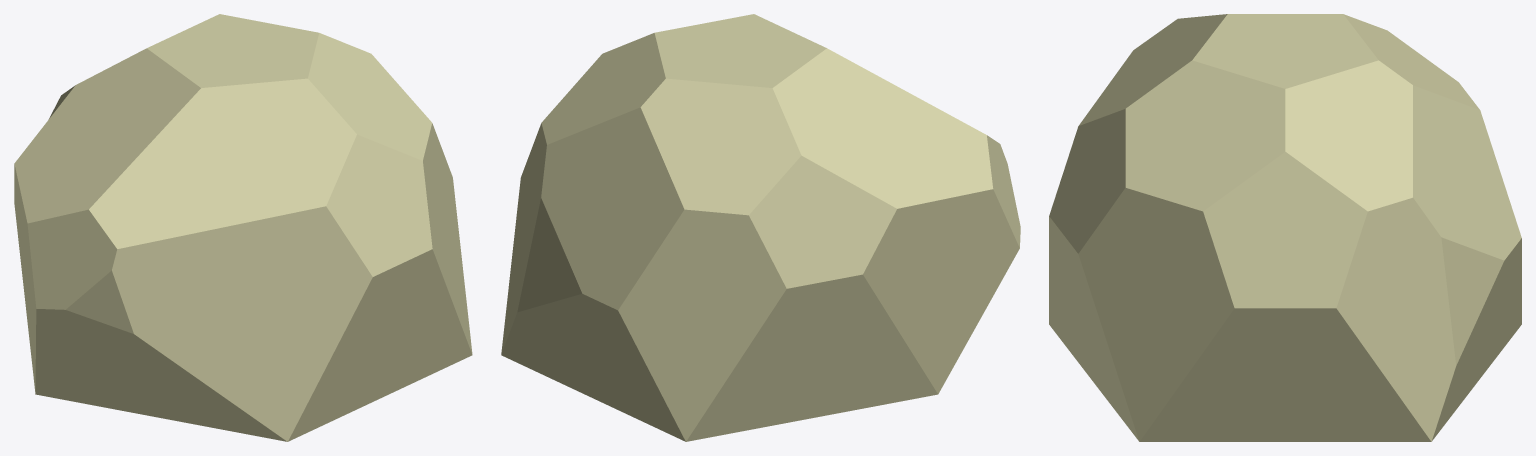
File: roca2.glb
The picture shows the model from 3 angles, left to right: view 1: azimuth 30°, elevation 25°; view 2: azimuth 150°, elevation 25°; view 3: azimuth 270°, elevation 25°; orthographic projection. The views are drawn at different scales.
Parts seen in each view (by area): view 1: Icosphere; view 2: Icosphere; view 3: Icosphere.
Boxes of the visible parts, x1,y1,x2,y2 form: Icosphere: [14, 14, 472, 441]; Icosphere: [501, 14, 1020, 441]; Icosphere: [1049, 14, 1521, 441].
Size of the model in its own units: 1.91 by 1.28 by 1.7.
